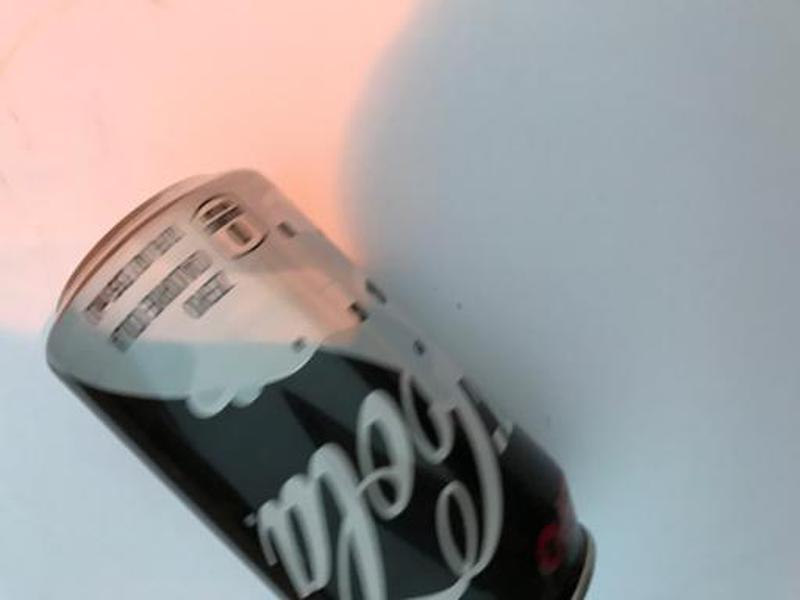can: (37, 164, 603, 600)
